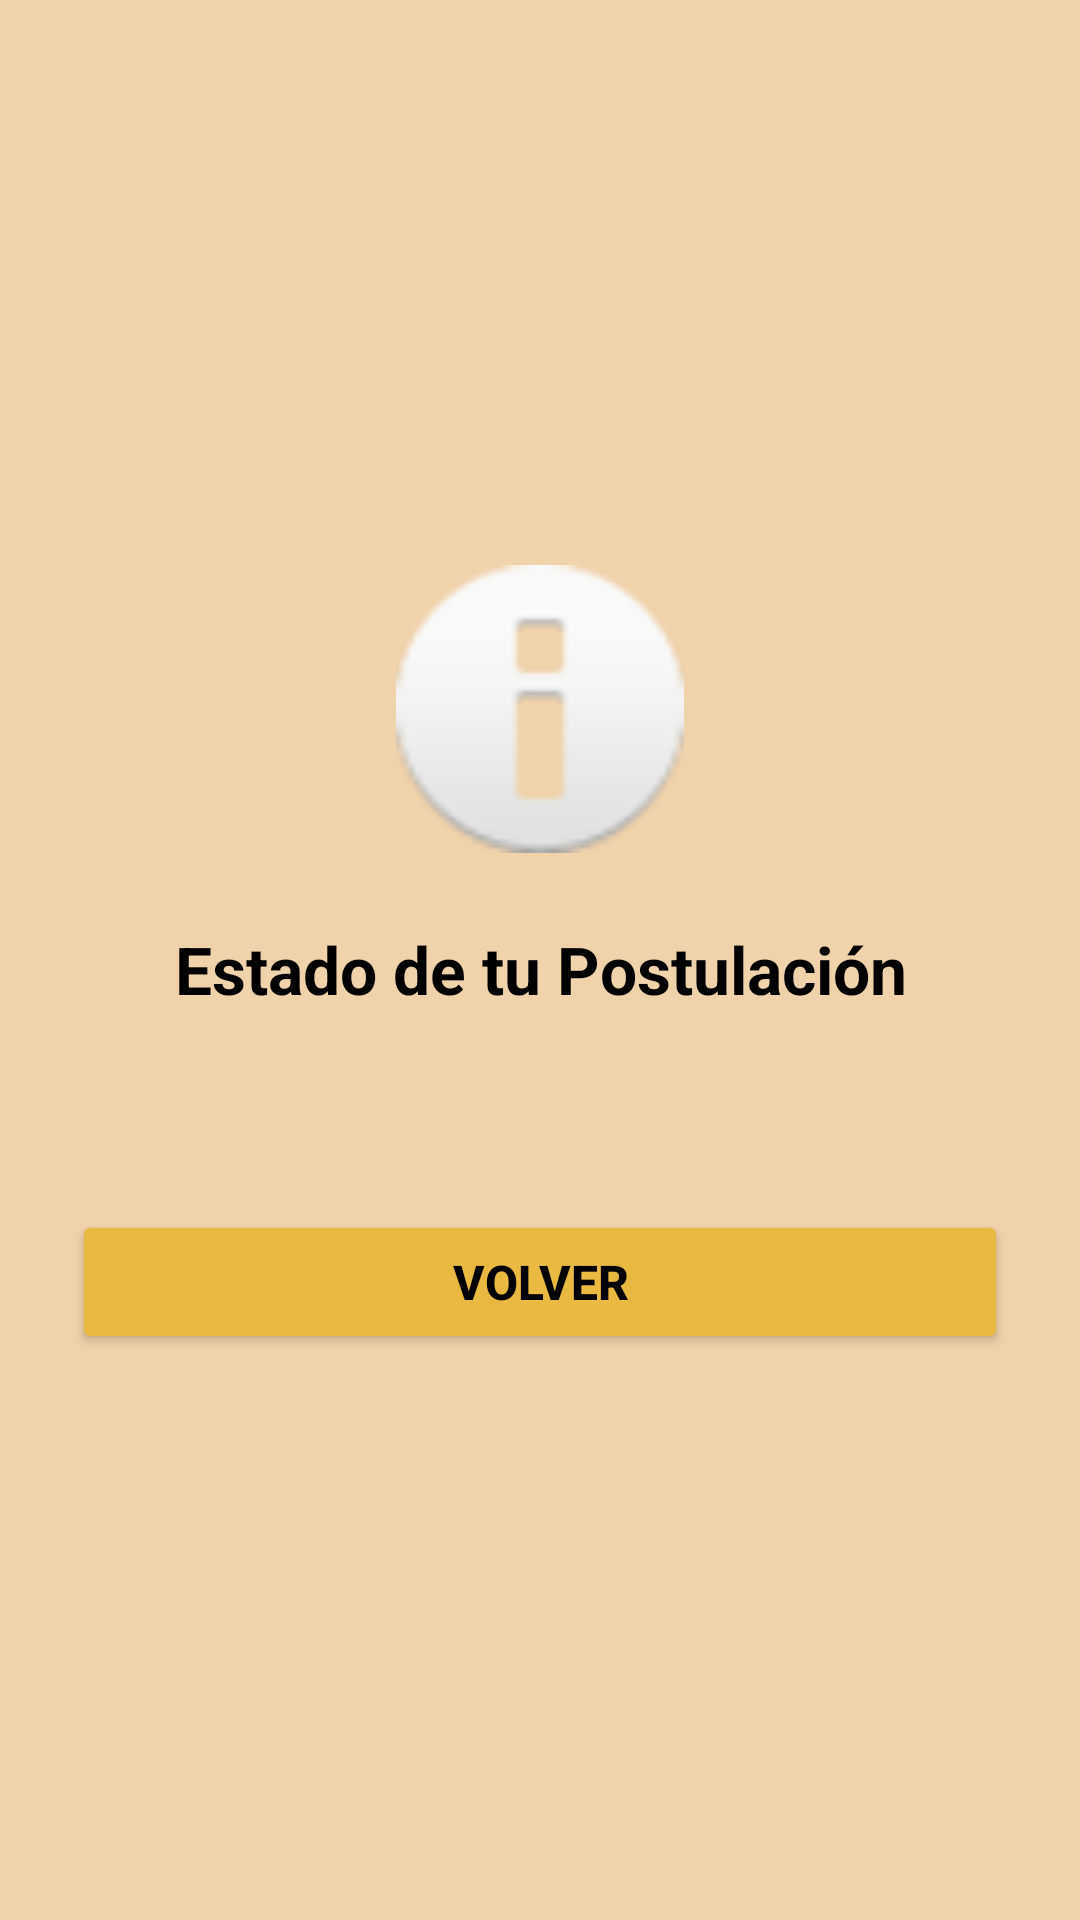

Icon click points for this 1080*1920 phone screenshot, format (x=x, y=y):
info: (x=540, y=709)
